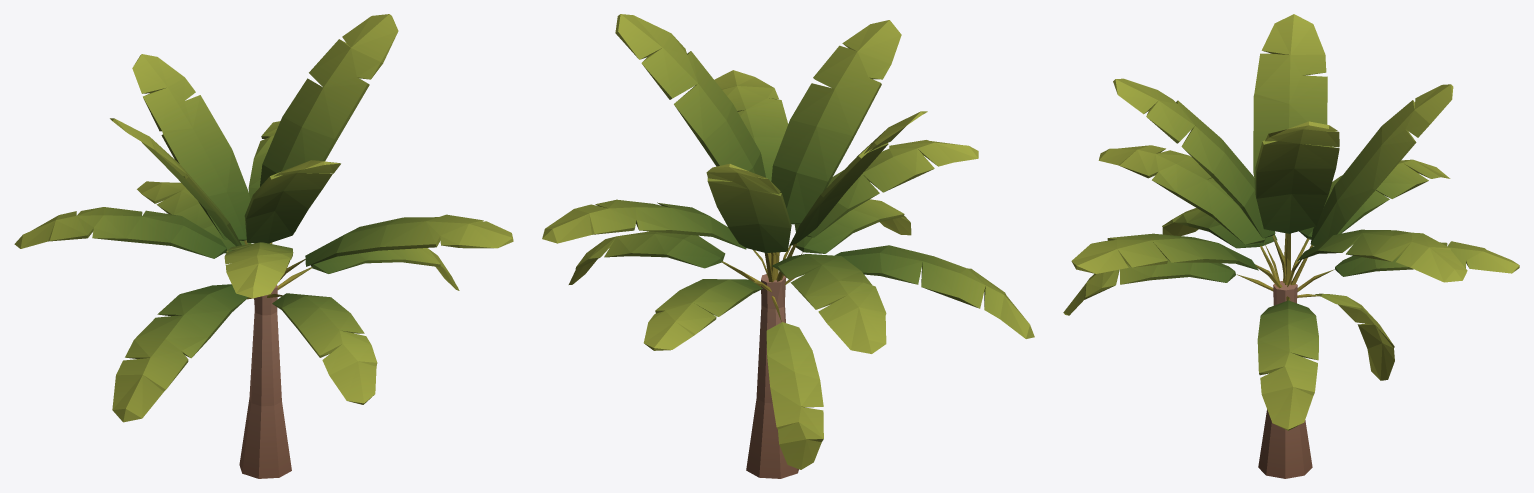
The model's file is BananaTree_02.fbx.
3 renders of one model, left to right at view 1: azimuth 30°, elevation 25°; view 2: azimuth 150°, elevation 25°; view 3: azimuth 270°, elevation 25°, orthographic. The views are drawn at different scales.
Visible parts, largest first — view 1: BananaTree_02_LOD0; view 2: BananaTree_02_LOD0; view 3: BananaTree_02_LOD0.
Part boxes in pixels (<box>): BananaTree_02_LOD0: <box>14,14,513,478</box>; BananaTree_02_LOD0: <box>542,14,1034,478</box>; BananaTree_02_LOD0: <box>1063,14,1519,478</box>.
Size of what is drawn, in the model's own units: 2.07 by 2.08 by 2.09.
